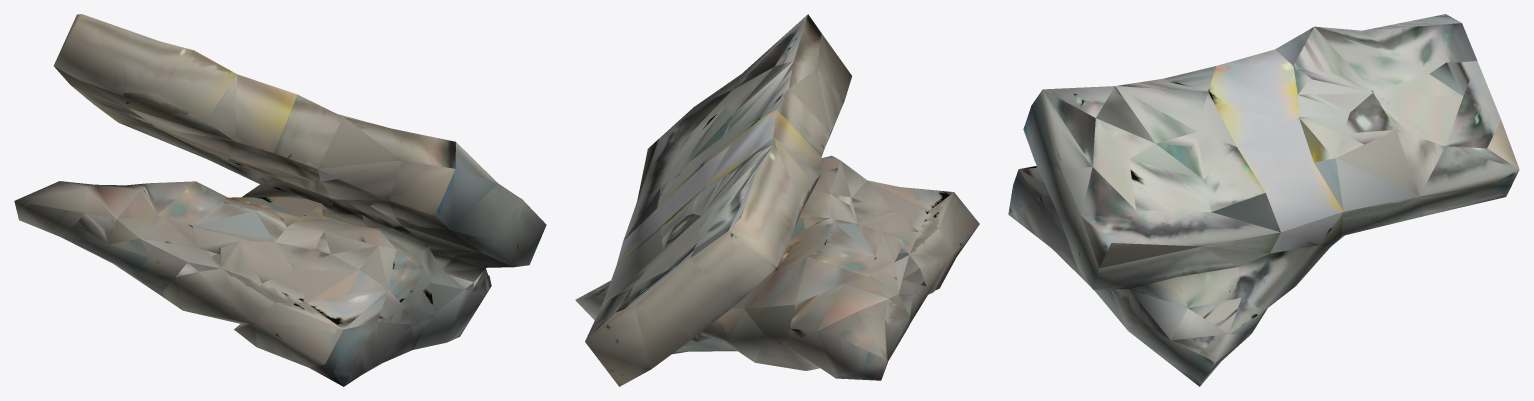
The model's file is money.glb.
3 views of the same model, side by side, from view 1: azimuth 30°, elevation 25°; view 2: azimuth 150°, elevation 25°; view 3: azimuth 270°, elevation 25° (orthographic). The views are drawn at different scales.
Visible parts, largest first — view 1: mesh (6); view 2: mesh (6); view 3: mesh (6).
Boxes of the visible parts, left/top/right/bottom form: mesh (6): left=14, top=14, right=546, bottom=386; mesh (6): left=575, top=14, right=979, bottom=386; mesh (6): left=1008, top=14, right=1519, bottom=386.
Size of the model in its own units: 0.851 by 0.6145 by 1.06.
1 material, 1 textured.
